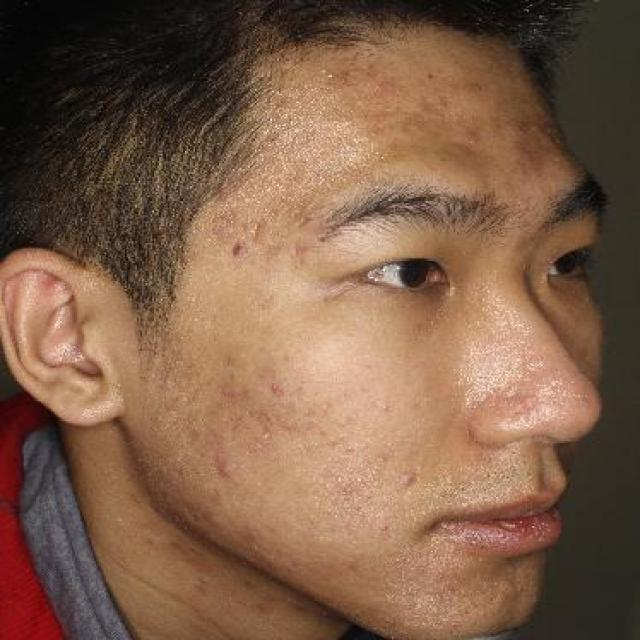papules: (392, 468, 423, 494), (226, 238, 253, 264), (212, 457, 238, 483)
pustules: (375, 398, 397, 417)
